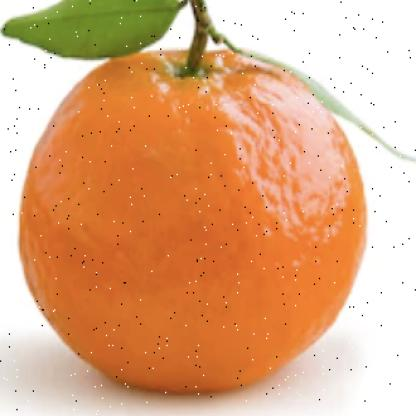fresh: (18, 29, 369, 396)
